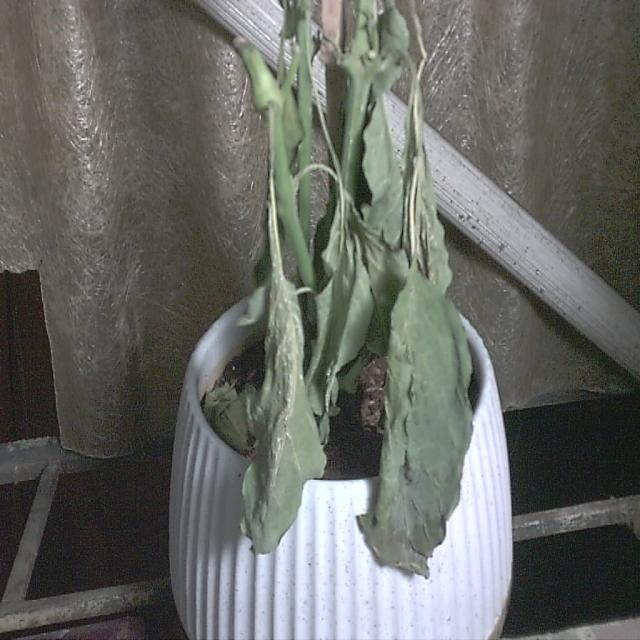Leaf: (356, 267, 474, 578), (239, 270, 327, 556)
